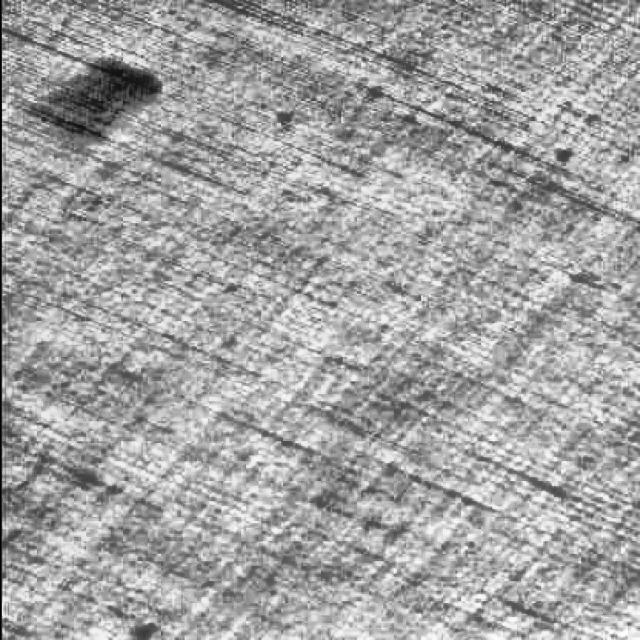oil_spot: (25, 46, 166, 154)
